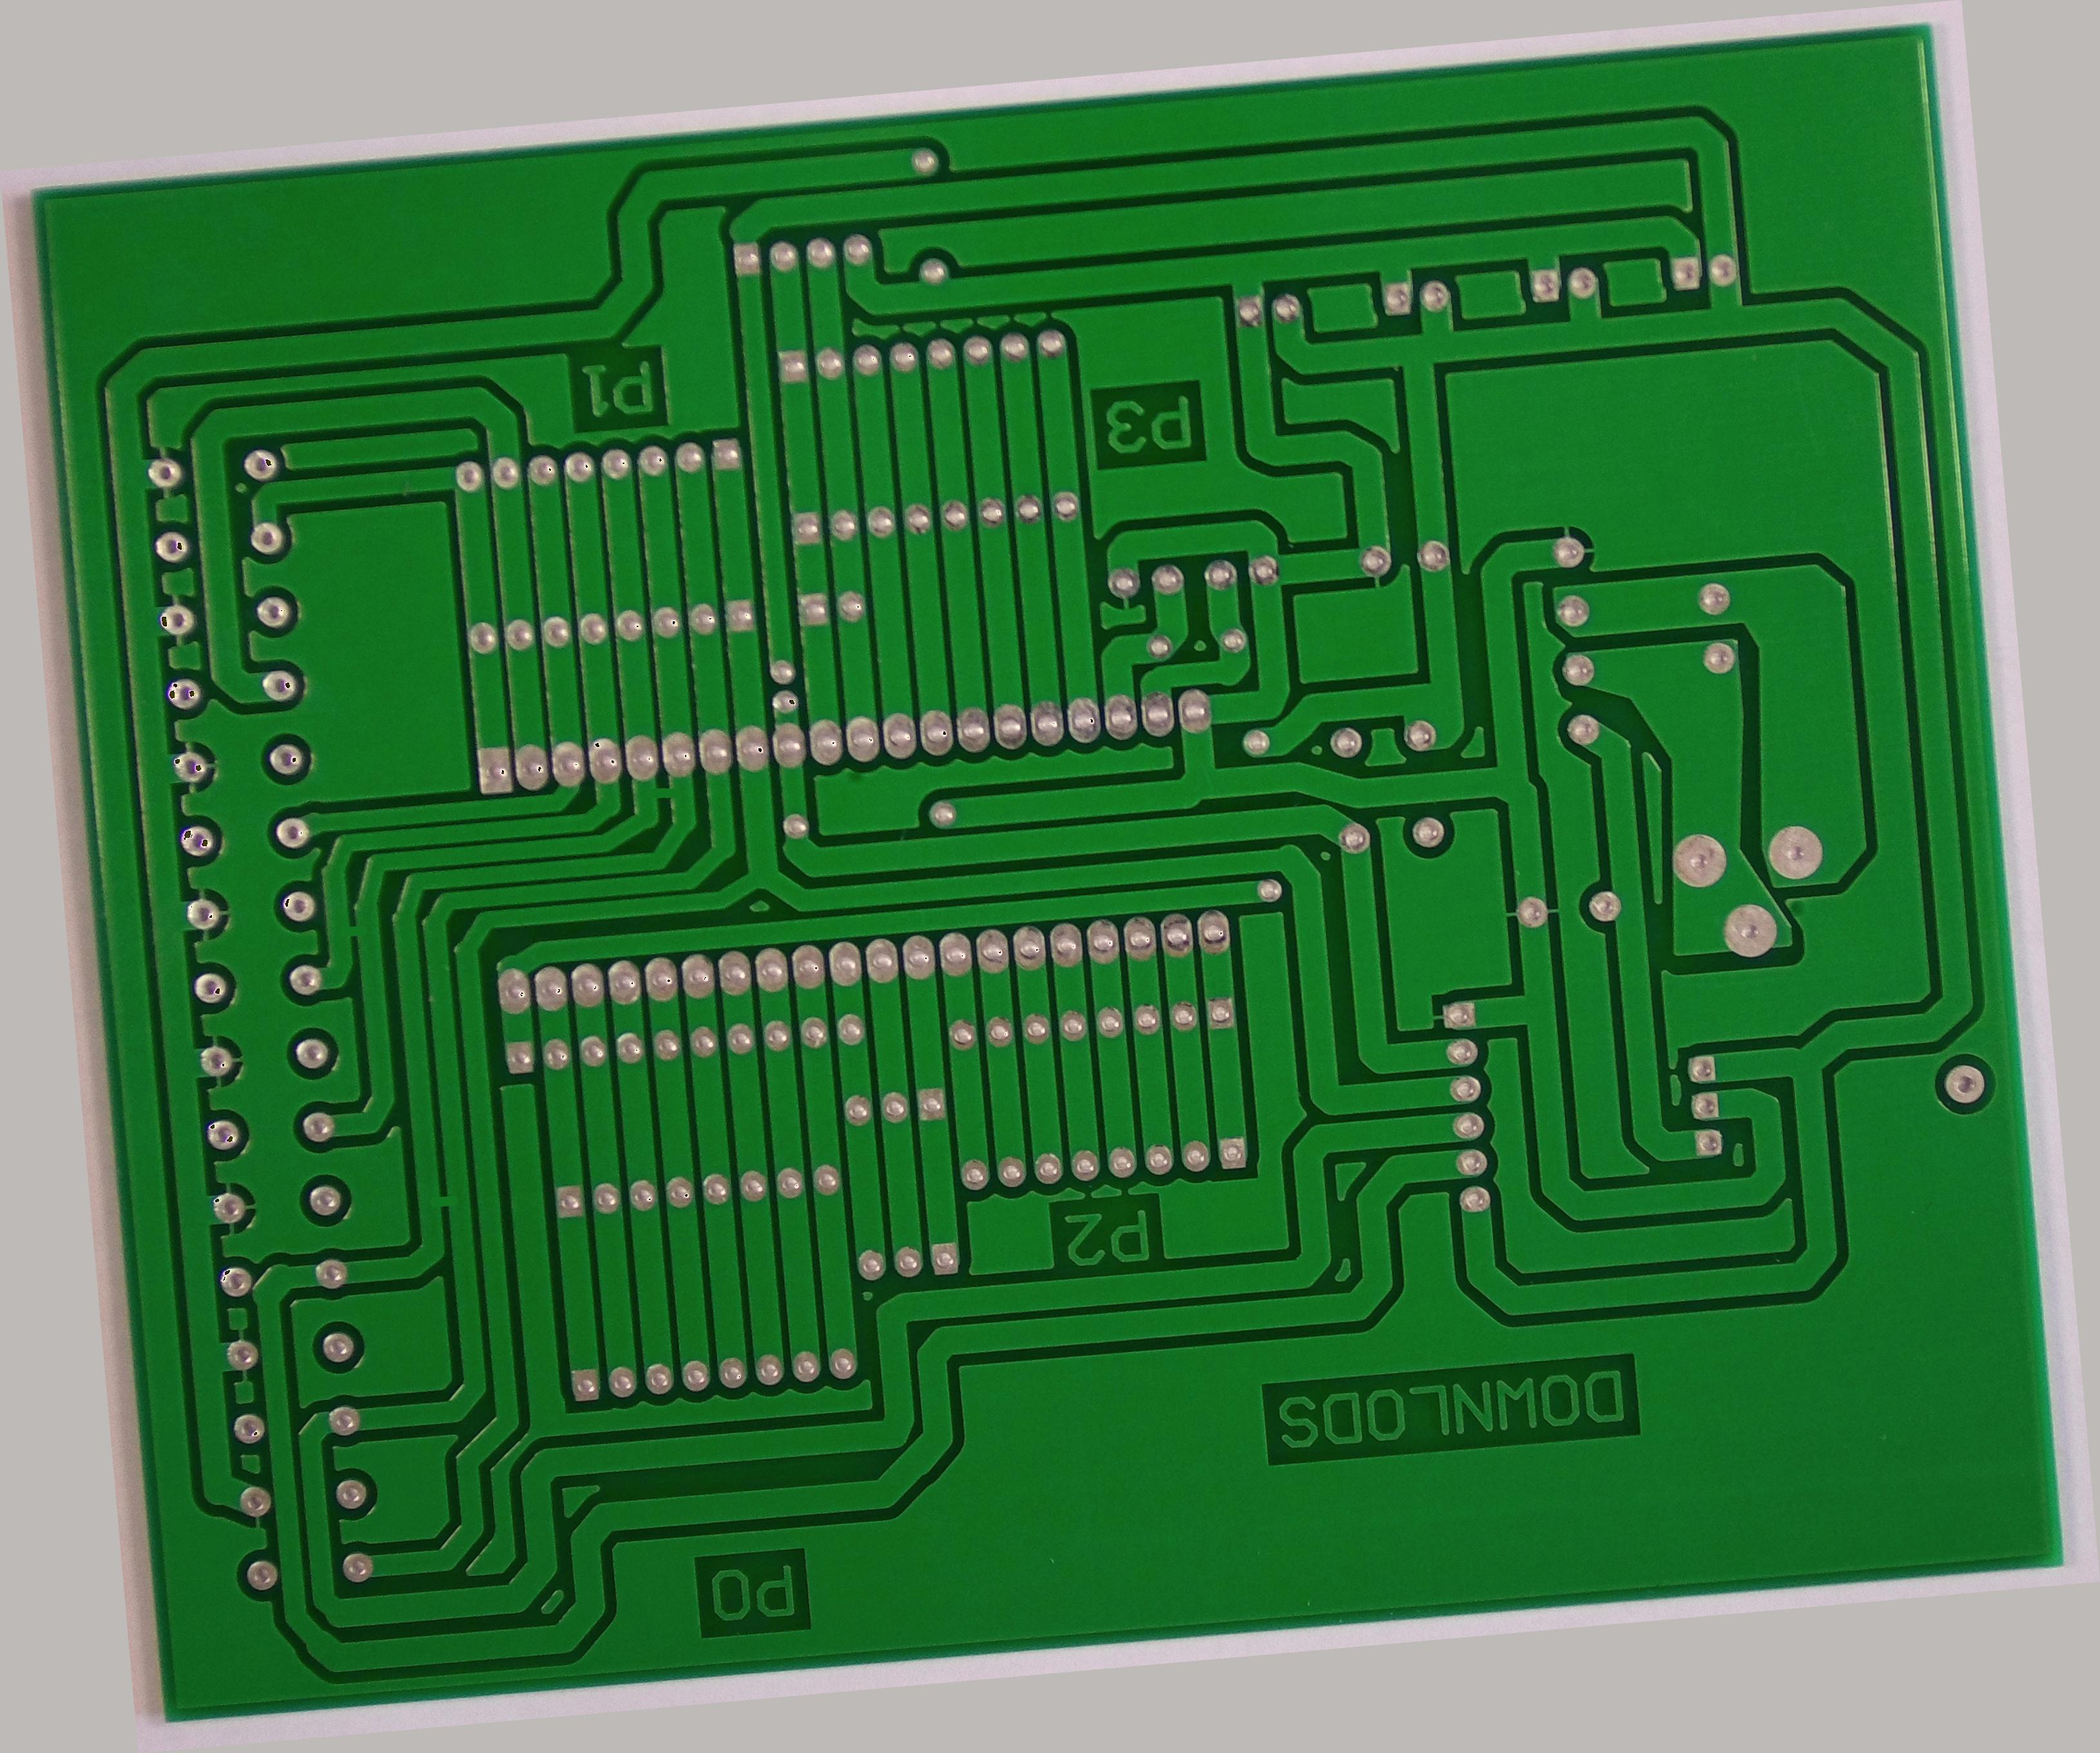short: (410, 1160, 478, 1242), (323, 898, 382, 965), (635, 759, 694, 820)
